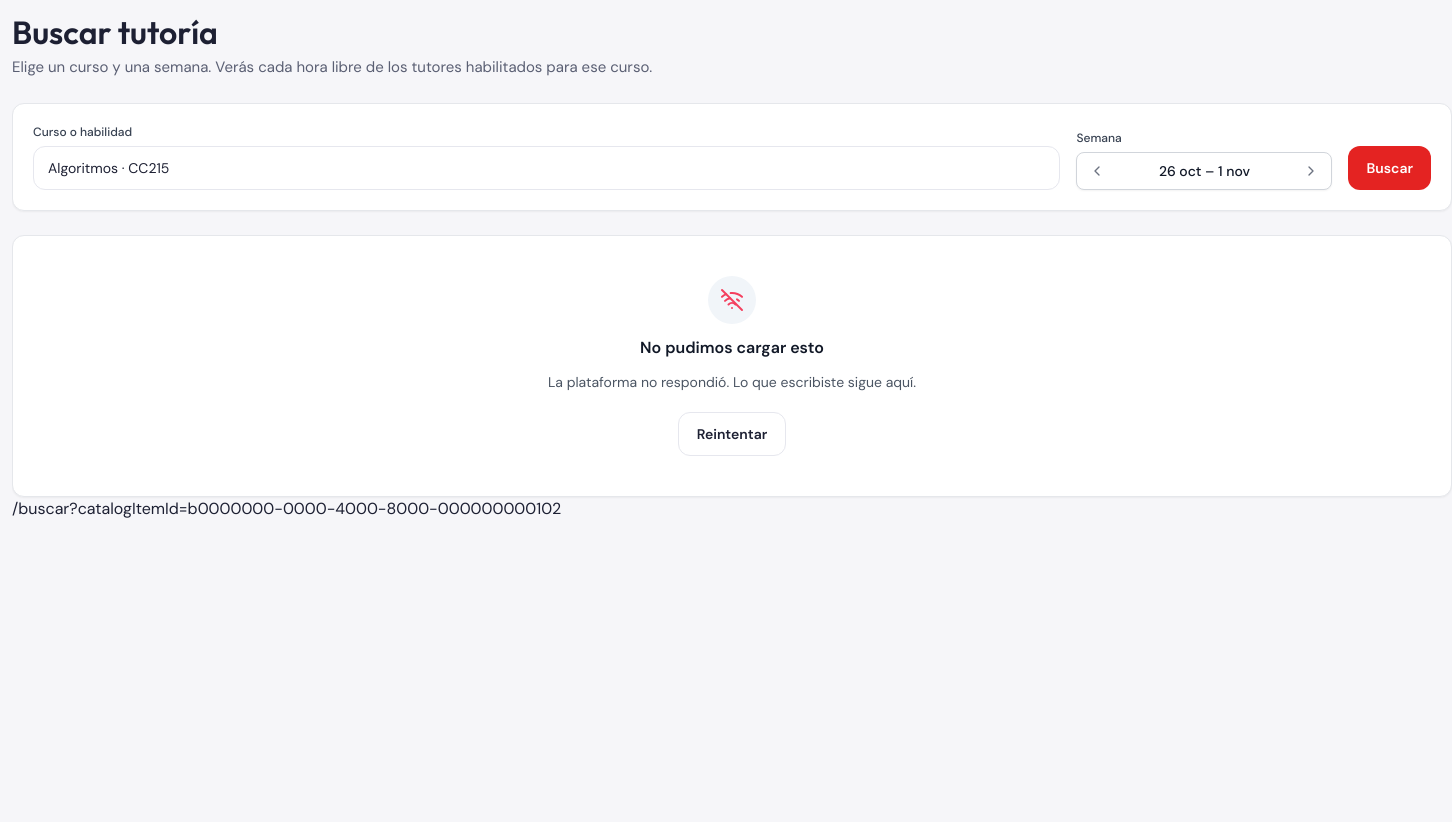
Test: FE-10 SearchPage › shows error state when search request fails and allows retry
Expected: the heading "No pudimos cargar esto" is shown, [640,336,824,360]
Click the button "Reintentar".
click(732, 434)  # box [678,412,786,456]
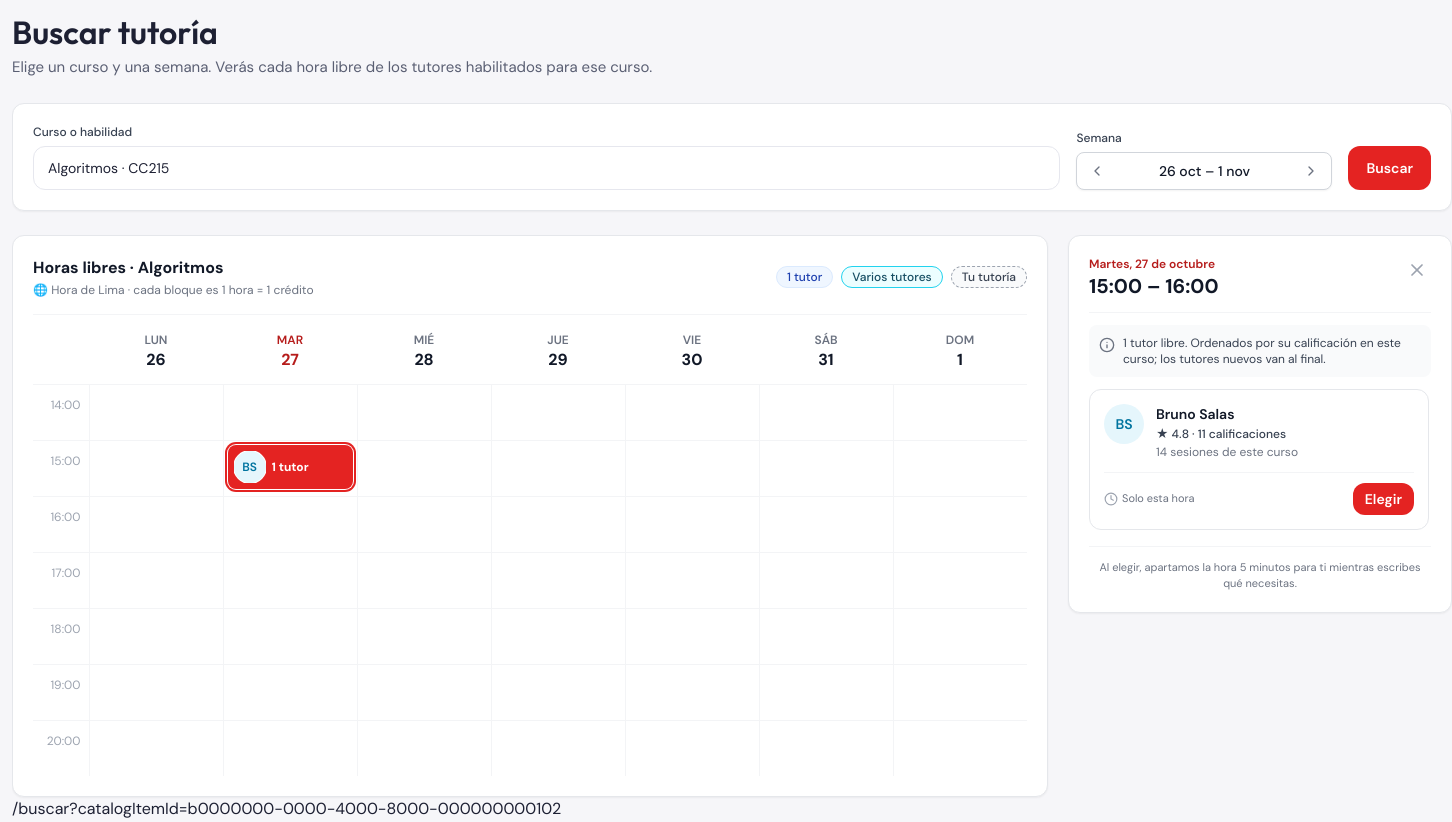
Now the heading "Horas libres · Algoritmos" is shown, box [33,256,223,278]
